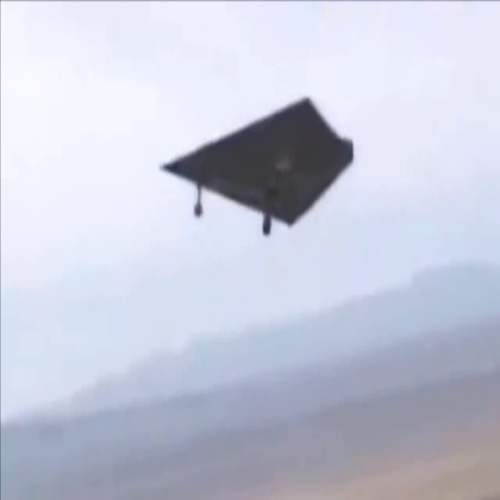uav: (154, 94, 359, 237)
